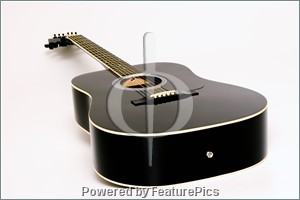guitar: (44, 32, 270, 190)
